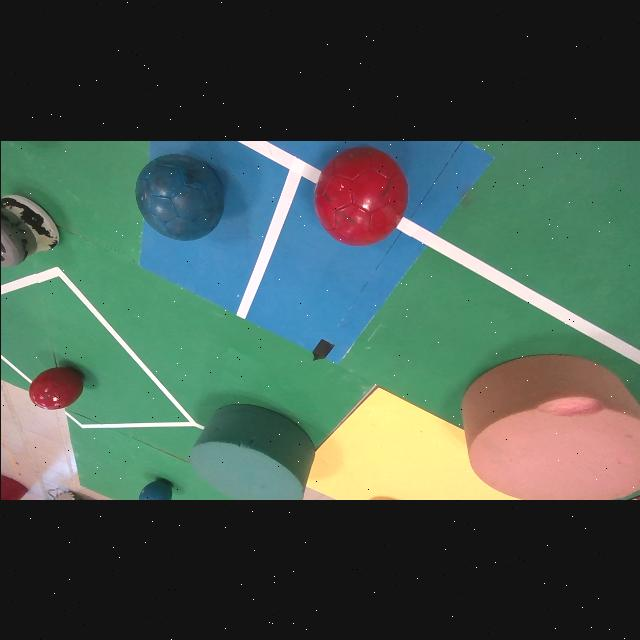B: (134, 154, 222, 240), (138, 478, 171, 500)
R: (314, 147, 407, 246), (28, 367, 81, 410)
